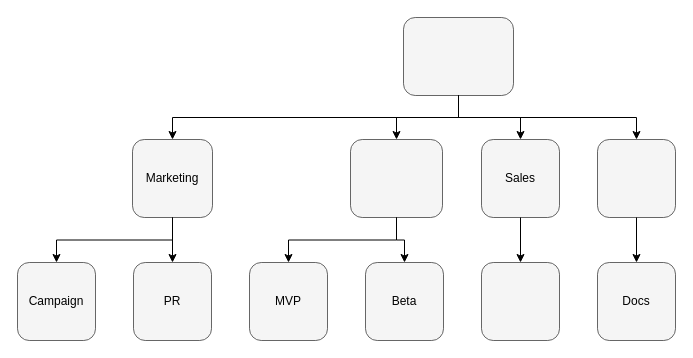
This 693x358 diagram has some shape labels left out. Here are the shapes that lost their labels. From the top down, the centre of each, then its label:
At [458,56]: "Product Launch".
At [396,178]: "Engineering".
At [636,178]: "Support".
At [520,301]: "Pricing".
